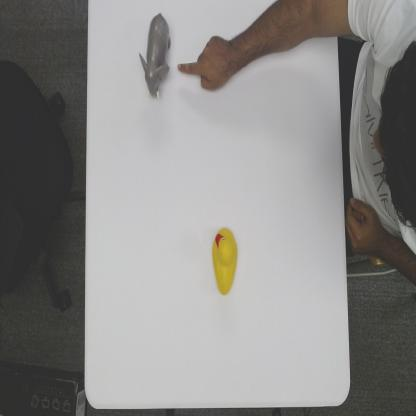Arm: (229, 0, 343, 82)
Duck: (211, 226, 238, 297)
Elephant: (139, 12, 172, 100)
Hand: (177, 32, 230, 94)
